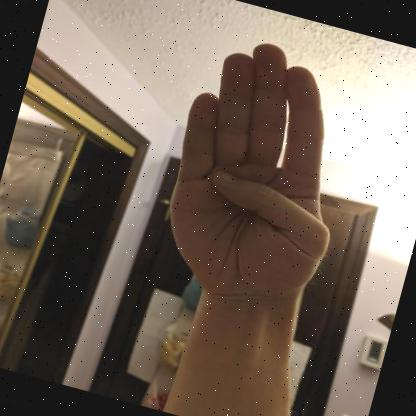B: (169, 43, 329, 324)
